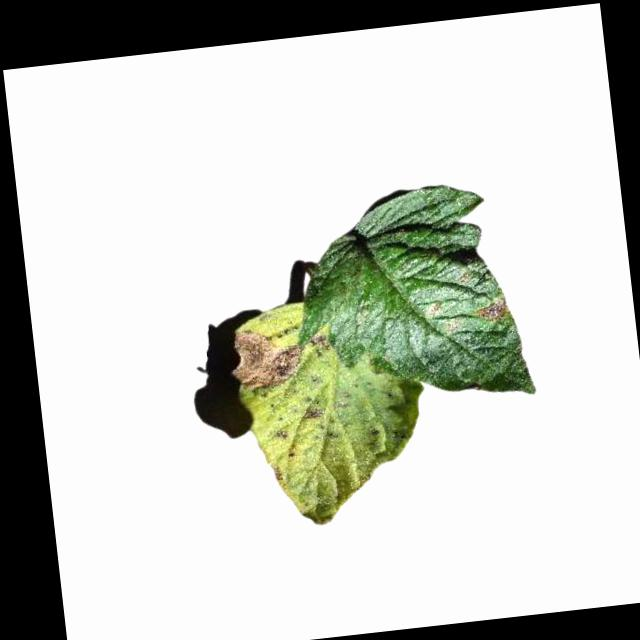Early_blight: (228, 323, 329, 397), (476, 294, 513, 328), (299, 405, 324, 422)
